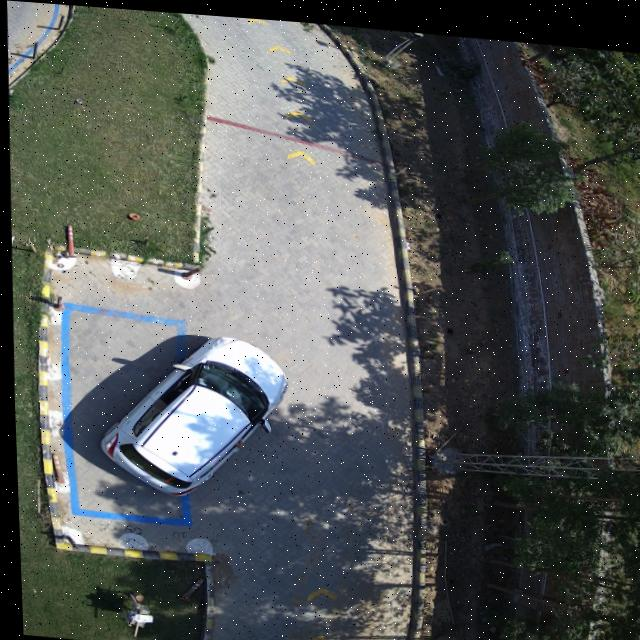car: (96, 333, 283, 493)
